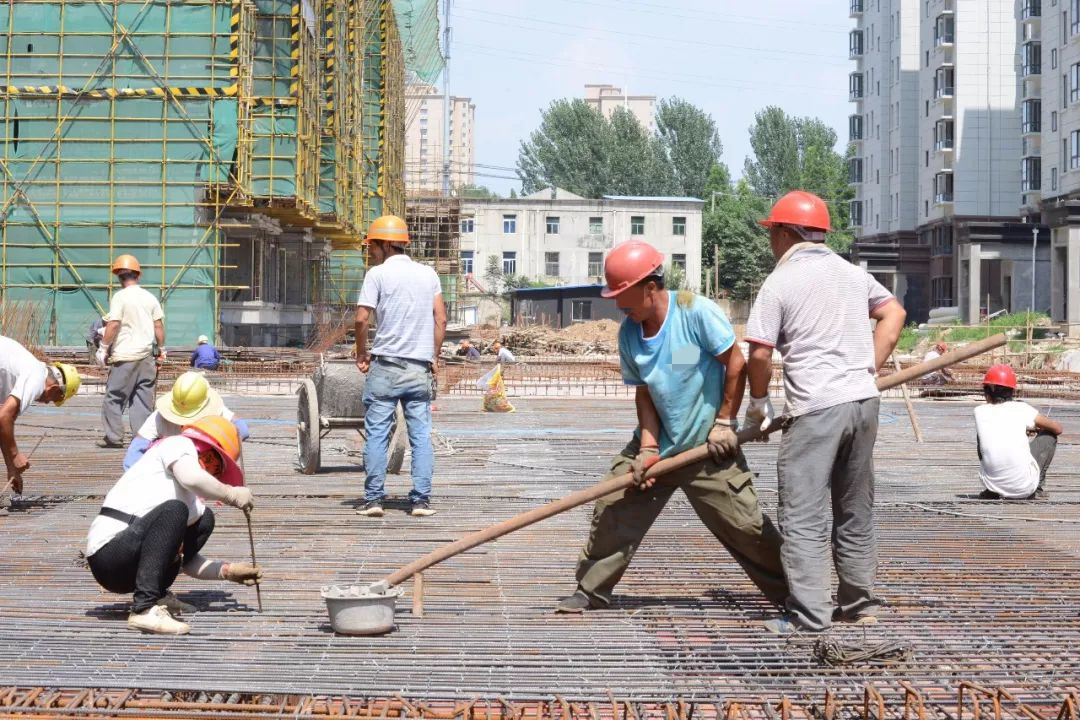helmet: (594, 238, 668, 300), (760, 190, 830, 234), (185, 415, 241, 462), (169, 371, 209, 414), (362, 214, 408, 247), (55, 361, 80, 407), (983, 364, 1019, 387), (111, 253, 142, 275)
person: (553, 236, 793, 612), (743, 190, 913, 640), (85, 415, 264, 636), (351, 209, 447, 520), (92, 250, 170, 450), (121, 370, 245, 495), (1, 332, 81, 508), (969, 360, 1067, 502), (188, 333, 222, 369)
